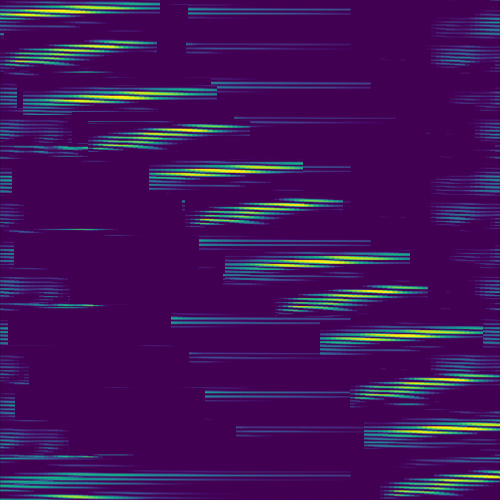semblance: (6, 35, 145, 69), (193, 196, 338, 225), (98, 122, 238, 151), (284, 282, 422, 310), (42, 86, 198, 109), (363, 371, 489, 398), (1, 1, 156, 22), (155, 160, 304, 181), (390, 470, 500, 496), (252, 251, 394, 271), (329, 326, 477, 344), (386, 419, 500, 440)
